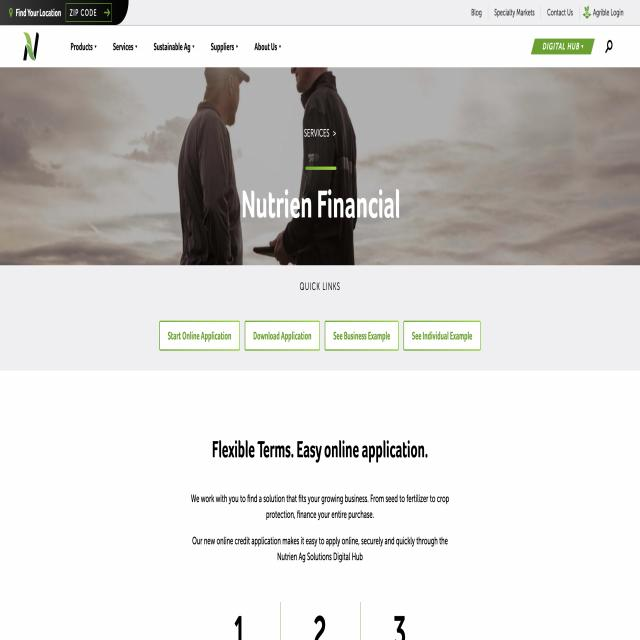Logo: (11, 24, 52, 66)
Navigation: (67, 36, 315, 59)
